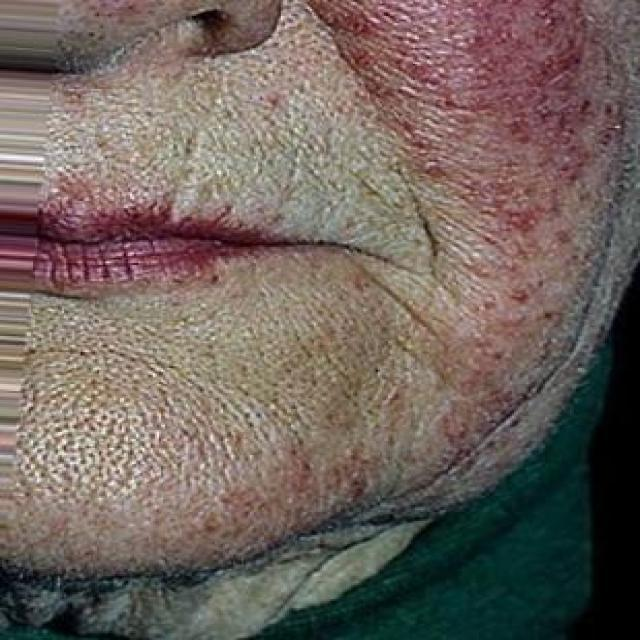Rosacea: (306, 0, 612, 442)
